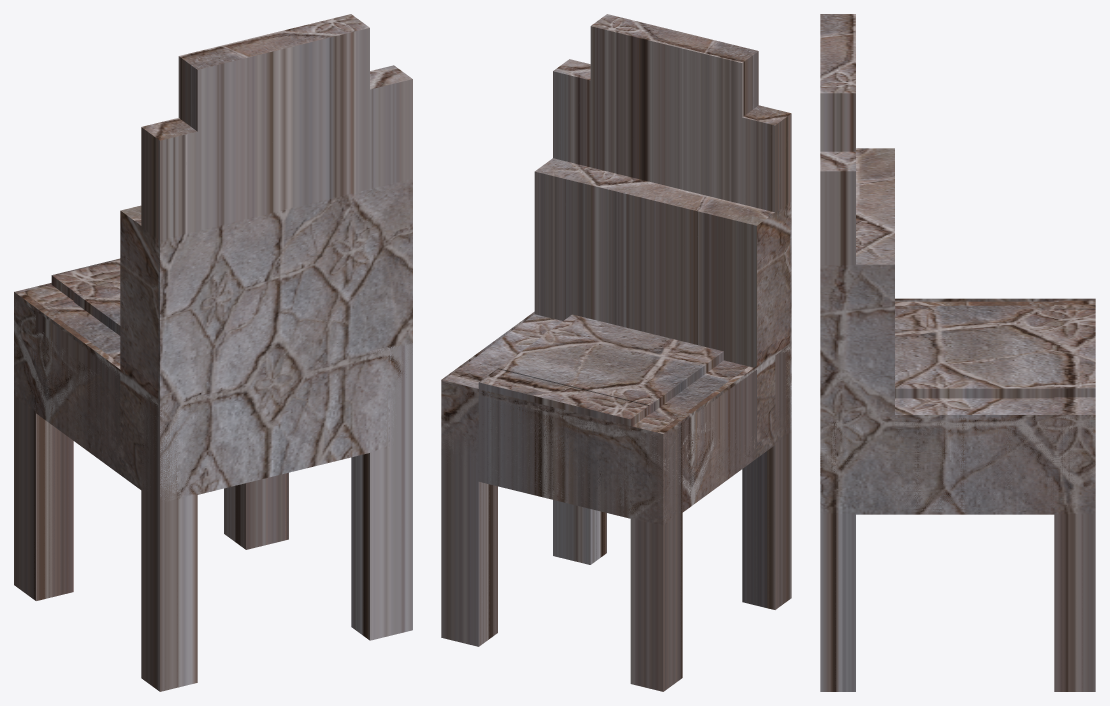
File: throne.gltf
3 views of the same model, side by side, from view 1: azimuth 30°, elevation 25°; view 2: azimuth 150°, elevation 25°; view 3: azimuth 270°, elevation 25° (orthographic). The views are drawn at different scales.
Visible parts, largest first — view 1: Cube; view 2: Cube; view 3: Cube.
Boxes of the visible parts, box(x1,y1,x2,y2) form: Cube: box(14, 14, 412, 691); Cube: box(441, 14, 791, 691); Cube: box(820, 14, 1095, 691).
Bounding box in the file's own units: 2 × 4.63 × 2.
Materials: 1 (1 with a texture image).
